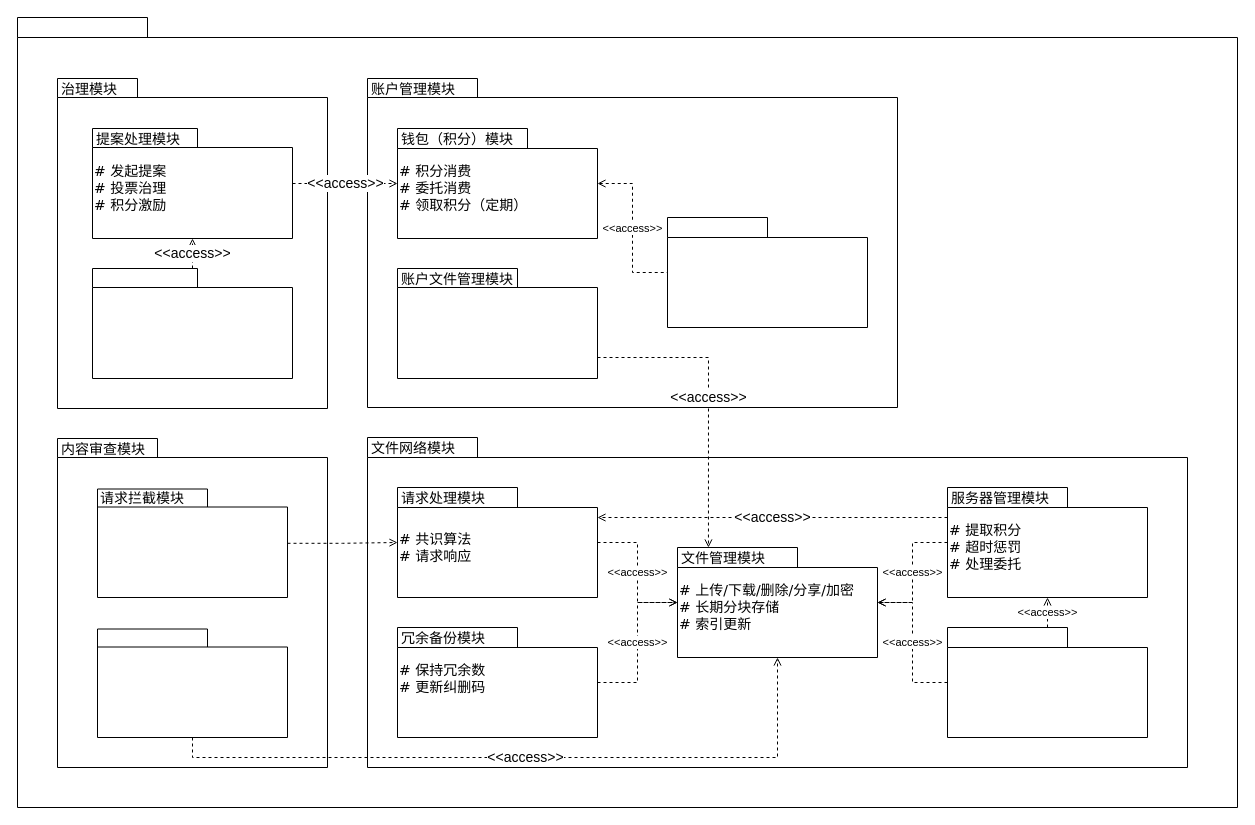
Some shapes in this 1255 by 825 pixel diagram are drawn without their labels. Each missing label, with the centre of its shape:
开发者子网模块: point (1047, 682)
文件屏蔽模块: point (192, 683)
滚动维护模块: point (192, 323)
请求生成模块: point (767, 272)
